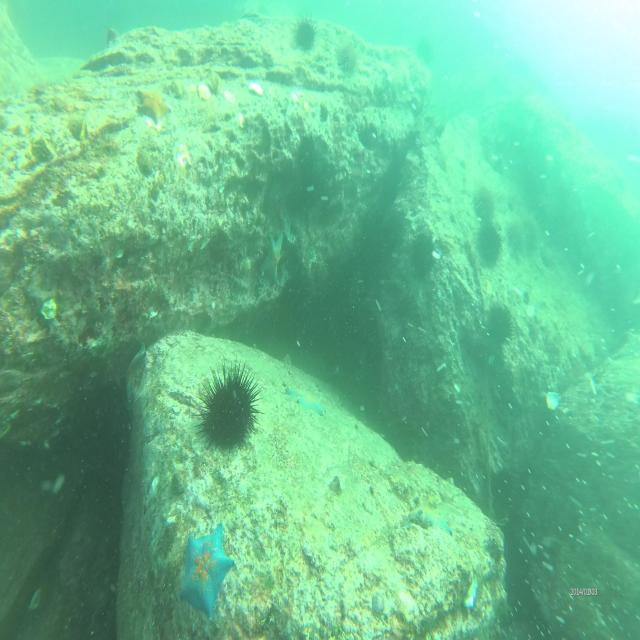echinus: (192, 362, 264, 456), (409, 224, 440, 273), (474, 218, 502, 264), (488, 296, 513, 342), (474, 183, 495, 223), (338, 36, 360, 74), (294, 17, 318, 48), (509, 220, 525, 254), (520, 220, 534, 248)
starfish: (177, 521, 232, 613), (411, 499, 454, 539), (285, 380, 326, 421), (138, 82, 170, 128)
